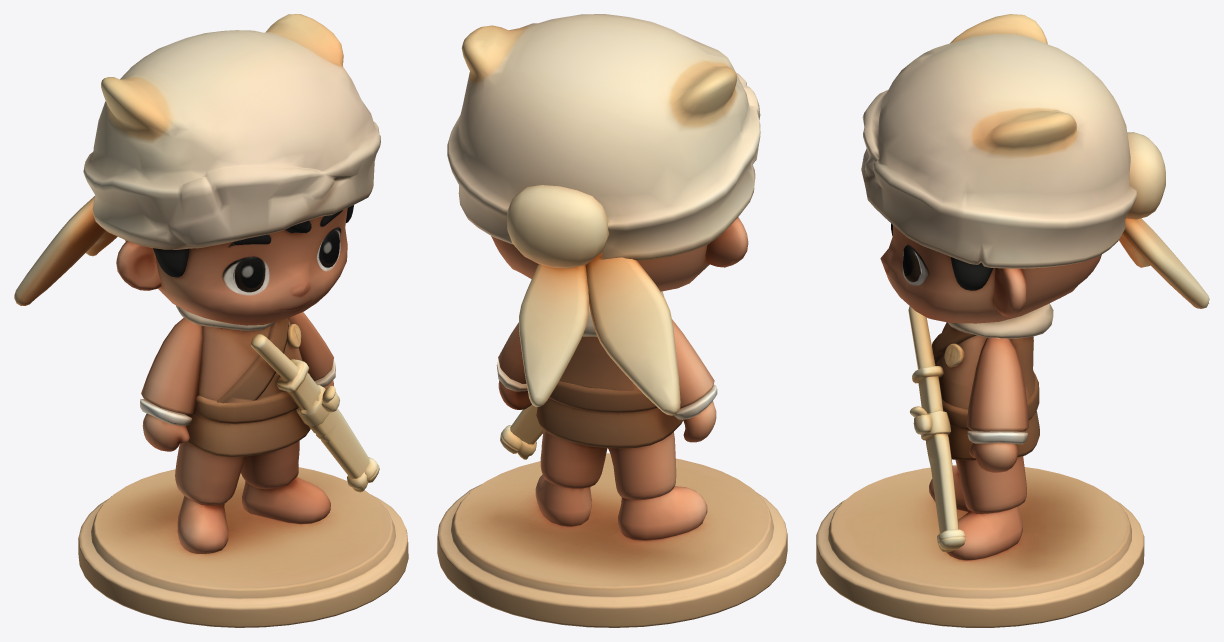
File: laos-pawn.glb
The picture shows the model from 3 angles, left to right: view 1: azimuth 30°, elevation 25°; view 2: azimuth 150°, elevation 25°; view 3: azimuth 270°, elevation 25°; orthographic projection. The views are drawn at different scales.
Parts seen in each view (by area): view 1: tripo_2e2b41ad_9544_40ea_8512_66a883c0948a; view 2: tripo_2e2b41ad_9544_40ea_8512_66a883c0948a; view 3: tripo_2e2b41ad_9544_40ea_8512_66a883c0948a.
Part boxes in pixels (x1=…): tripo_2e2b41ad_9544_40ea_8512_66a883c0948a: x1=14, y1=14, x2=408, y2=627; tripo_2e2b41ad_9544_40ea_8512_66a883c0948a: x1=437, y1=14, x2=787, y2=627; tripo_2e2b41ad_9544_40ea_8512_66a883c0948a: x1=816, y1=14, x2=1209, y2=627.
Size of the model in its own units: 0.6001 by 0.9995 by 0.7134.
Materials: 1 (1 with a texture image).
